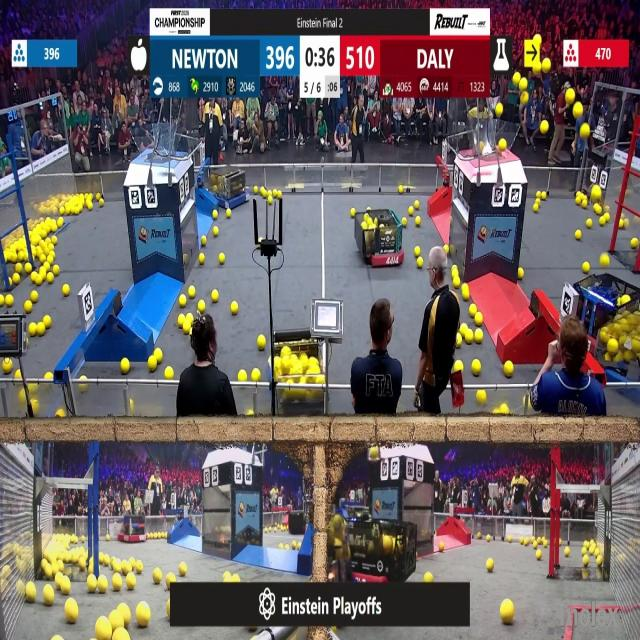ball_airborne: (592, 185, 602, 200), (540, 59, 550, 73), (565, 90, 574, 105), (572, 104, 581, 118), (582, 125, 590, 139), (532, 60, 540, 74), (369, 444, 377, 458), (536, 33, 544, 47), (521, 93, 529, 105), (521, 78, 528, 90), (496, 104, 503, 116), (499, 139, 506, 151), (540, 123, 547, 135), (515, 72, 521, 84), (480, 142, 485, 153)
ball_ground: (137, 606, 150, 629), (500, 601, 513, 623), (97, 620, 111, 640), (66, 601, 78, 623), (43, 588, 54, 606), (27, 586, 37, 604), (121, 610, 130, 628), (89, 578, 99, 594), (503, 360, 512, 376), (112, 574, 121, 590), (99, 579, 108, 594), (62, 581, 71, 596), (56, 574, 64, 590), (471, 360, 480, 374), (257, 336, 265, 351), (128, 574, 136, 589), (148, 356, 156, 371), (461, 284, 469, 299), (600, 253, 609, 266), (478, 391, 487, 404), (111, 560, 120, 573), (120, 358, 128, 372), (179, 562, 187, 576), (153, 569, 161, 583), (3, 359, 11, 373), (473, 314, 482, 326), (116, 631, 128, 640), (486, 559, 494, 572), (43, 316, 51, 329), (454, 360, 463, 371), (424, 571, 433, 582), (168, 572, 177, 583), (136, 560, 143, 574), (166, 366, 174, 378), (4, 294, 12, 306), (252, 368, 260, 380), (465, 332, 473, 344), (120, 561, 128, 573), (232, 303, 239, 316), (239, 369, 247, 380), (63, 284, 70, 296), (199, 301, 206, 313), (474, 331, 481, 343), (179, 294, 186, 306), (212, 290, 219, 302), (31, 290, 38, 302), (154, 349, 161, 361), (29, 323, 36, 335), (186, 325, 193, 337), (500, 407, 508, 417), (26, 302, 33, 313), (631, 238, 638, 249), (518, 269, 525, 280), (188, 286, 195, 297), (468, 305, 475, 316), (54, 266, 61, 277), (456, 335, 462, 347), (178, 314, 184, 326), (58, 411, 66, 420), (453, 266, 459, 278), (273, 189, 281, 198), (39, 267, 47, 276), (37, 324, 44, 334), (46, 274, 53, 284), (451, 279, 458, 289), (595, 204, 602, 214), (223, 571, 230, 581), (46, 253, 53, 263), (49, 238, 56, 248), (584, 263, 590, 274), (32, 273, 38, 284), (460, 323, 466, 334), (234, 573, 241, 582), (259, 187, 266, 196), (218, 253, 224, 263), (574, 231, 580, 241), (417, 257, 423, 267), (588, 218, 594, 228), (213, 226, 219, 236), (564, 549, 570, 559), (350, 208, 356, 218), (26, 264, 32, 274), (13, 275, 19, 285), (14, 368, 20, 378), (15, 264, 21, 274), (584, 556, 590, 566), (596, 556, 602, 566), (74, 205, 80, 215), (99, 554, 105, 564), (185, 314, 192, 322), (540, 191, 547, 199), (45, 373, 52, 381), (604, 213, 611, 221), (582, 200, 589, 208), (200, 253, 205, 264), (59, 217, 64, 228), (440, 541, 446, 550), (415, 247, 421, 256), (212, 210, 218, 219), (599, 217, 605, 226), (40, 254, 46, 263), (60, 207, 66, 216), (182, 254, 188, 263), (416, 216, 421, 226), (445, 245, 451, 253), (0, 294, 4, 306), (532, 205, 538, 213), (397, 185, 403, 193), (401, 217, 406, 226), (202, 237, 207, 246), (620, 219, 625, 228), (269, 197, 274, 206), (575, 198, 580, 207), (538, 200, 544, 207), (524, 537, 530, 544), (100, 200, 105, 208), (89, 203, 94, 211), (581, 548, 586, 556), (226, 209, 230, 218), (247, 412, 253, 418), (507, 535, 512, 542), (536, 552, 540, 560), (416, 202, 420, 210), (536, 190, 540, 198), (97, 192, 101, 200), (55, 636, 63, 640), (292, 540, 296, 548), (8, 278, 12, 286), (362, 222, 366, 230), (487, 538, 492, 544), (410, 208, 414, 215), (543, 540, 547, 547), (106, 535, 110, 541), (280, 543, 284, 549)
goal: (466, 122, 522, 160), (131, 129, 189, 161)
robot_blue: (600, 303, 640, 405), (208, 166, 248, 210)
robot_red: (567, 270, 639, 356), (592, 516, 640, 638), (341, 517, 416, 585), (362, 210, 405, 268), (119, 515, 146, 541)
